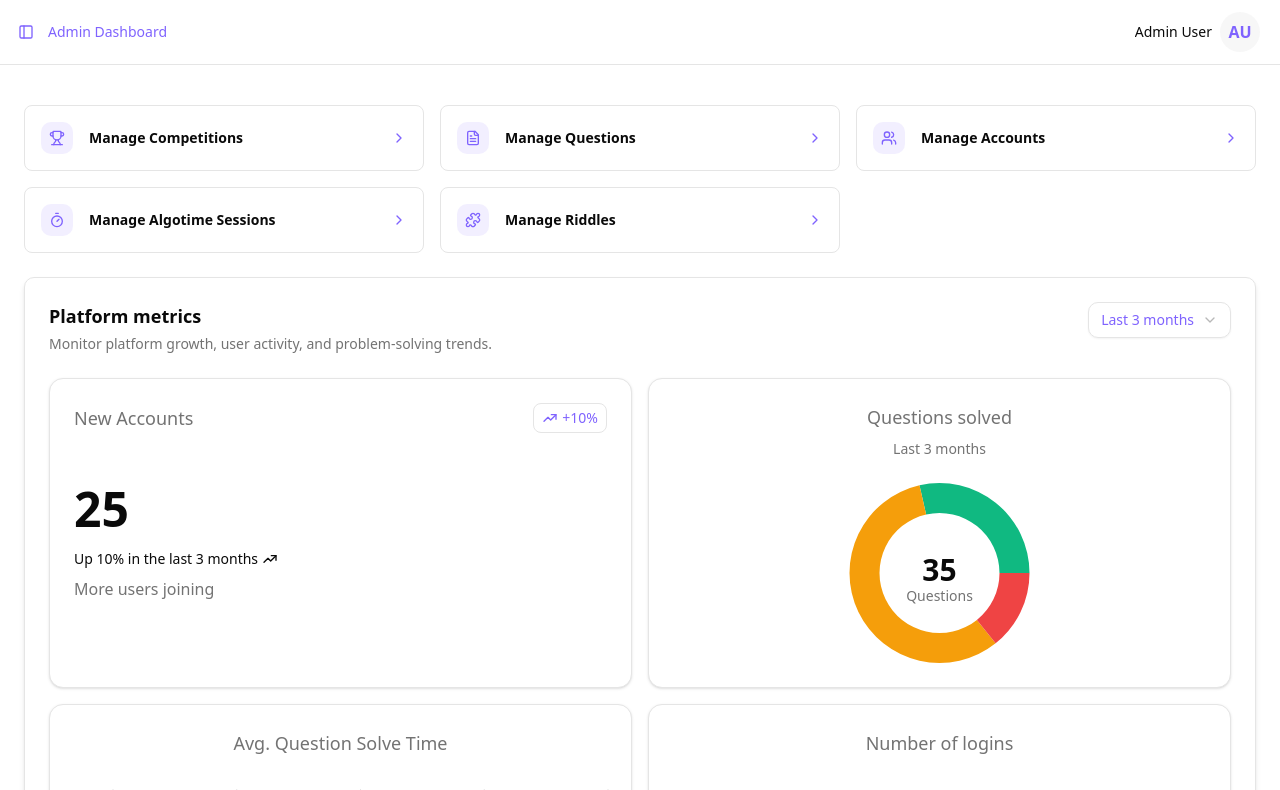
Test: Admin Dashboard › updates stats when the Time Range filter is changed
The image size is (1280, 790).
expect the text "New Accounts" is shown: met, box [74,404,193,432]
Note: Open the Select dropdown using the trigger button
Click the dropdown labelled "Last 3 months": (1160, 320) [1088,302,1231,338]
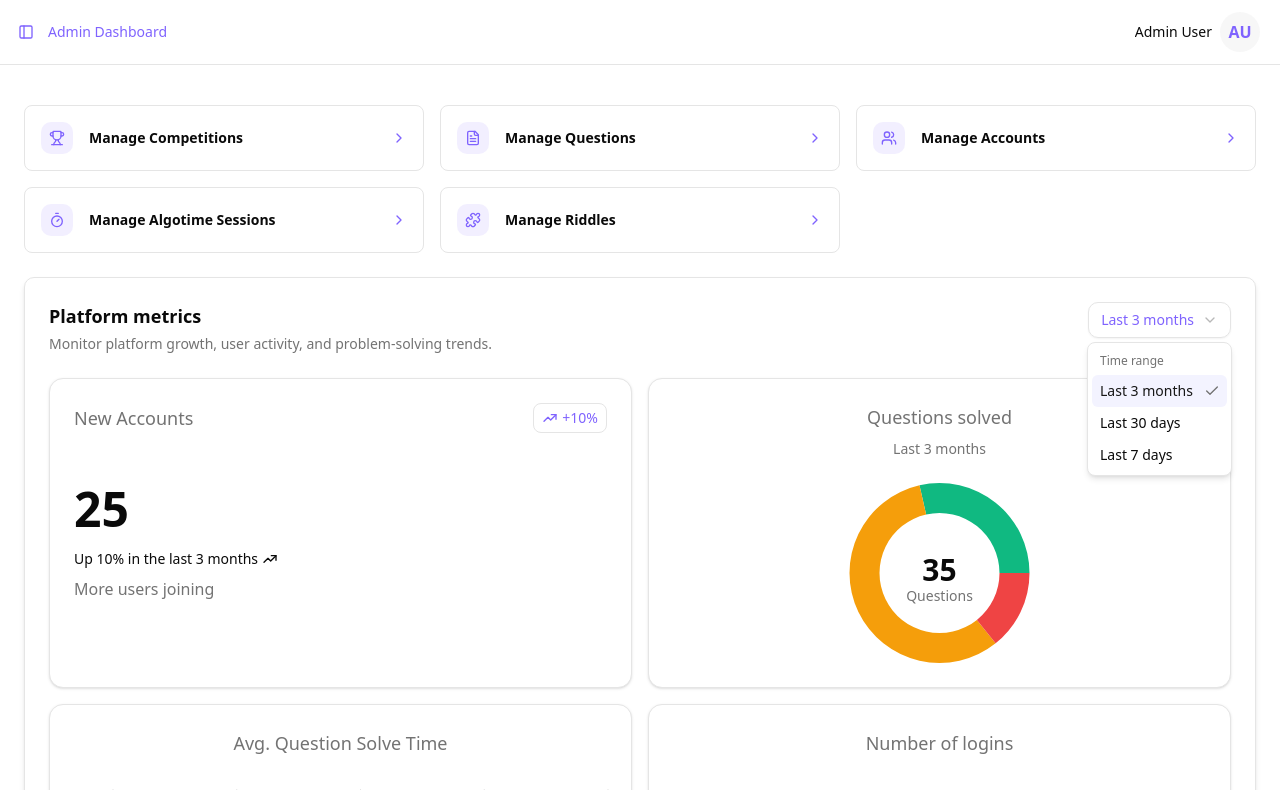
expect the list "Time range Last 3 months Last 30 days Last 7 days" is shown: met, box [1087,342,1232,476]
Click the text "Last 7 days": (1137, 455) [1100,445,1173,465]
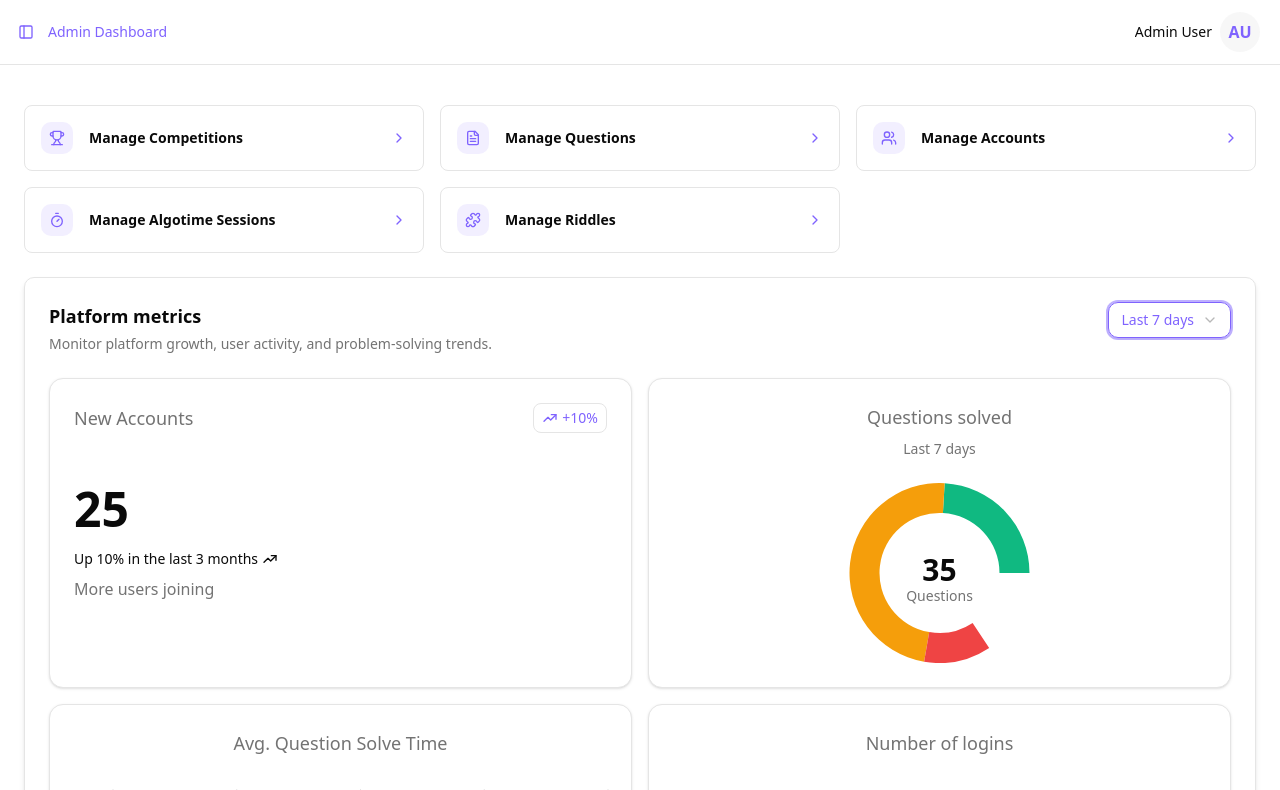
expect the dropdown labelled "Last 7 days" is shown: met, box [1108,302,1231,338]
